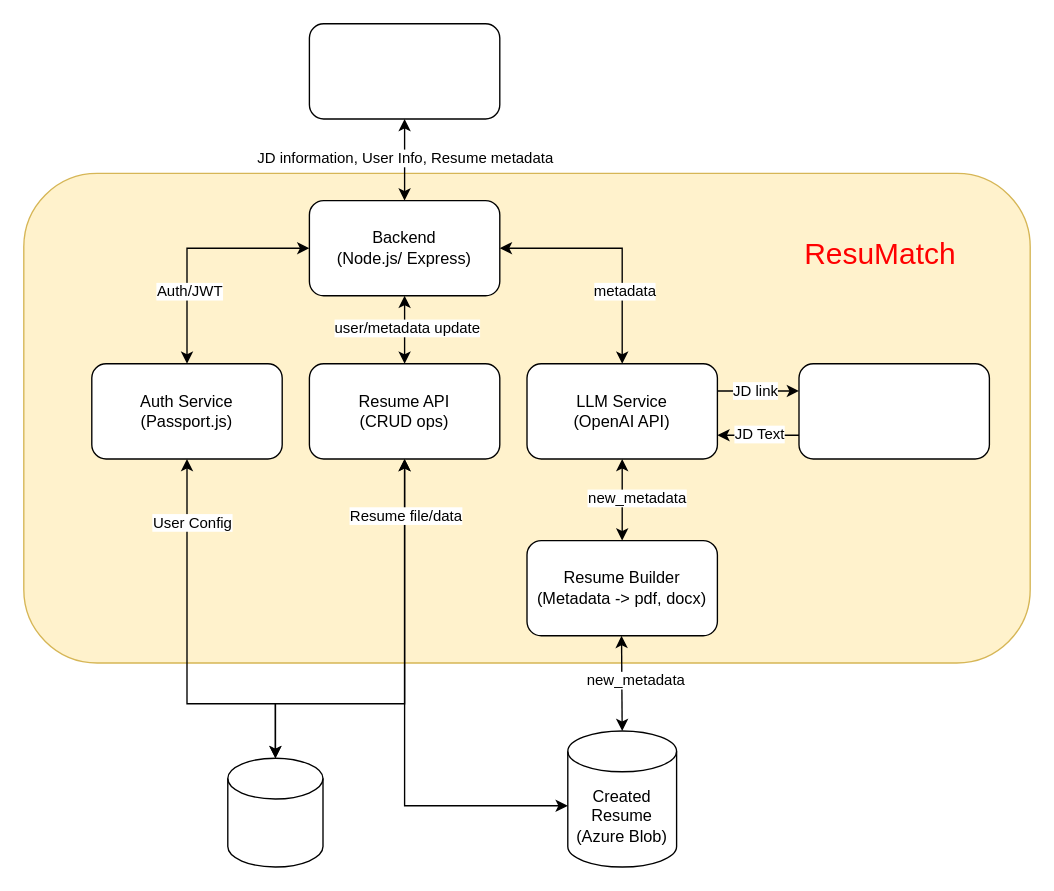
This 1054x891 diagram has some shape labels left out. Here are the shapes that lost their labels. From the top down, the centre of each, then its label:
the point at 404,70: Frontend (React, TailwindCSS)
the point at 893,410: Webscrapper (Job description)
the point at 274,812: DB (Azure SQL)
